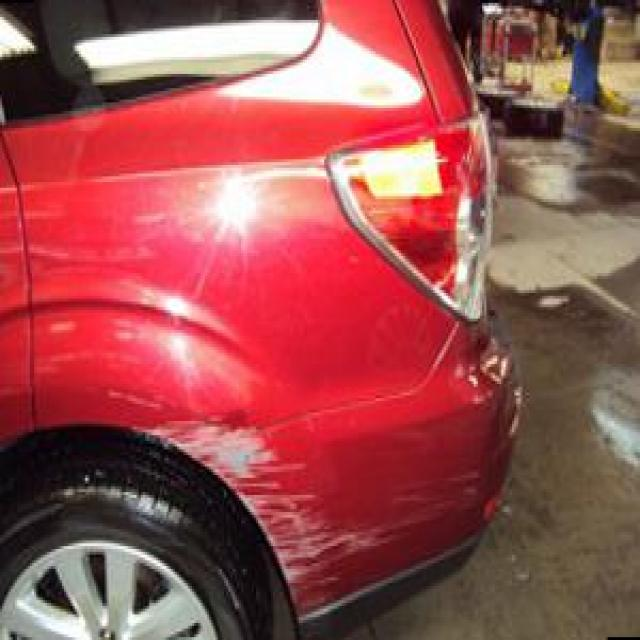scratch: (136, 412, 384, 623)
